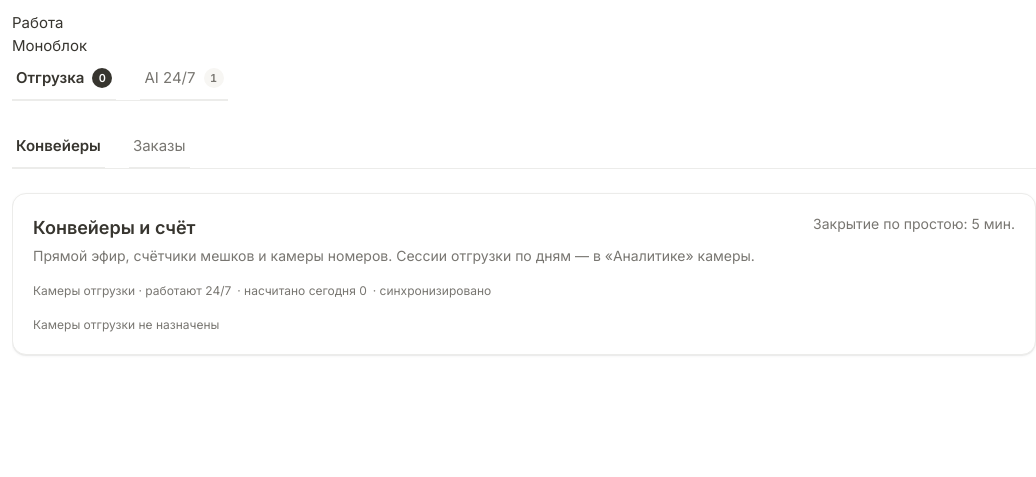
Test: доступ к AI 24/7 на странице моноблока › не выдаёт несинхронизированную аналитику AI 24/7 за честный ноль
Click the tab "AI 24/7 1": (184, 79) [140,57,228,101]
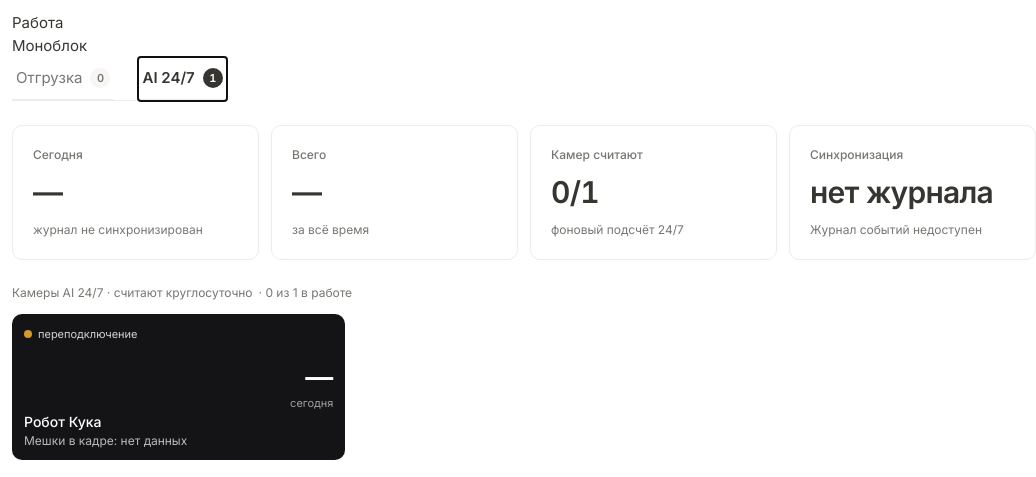
Now the 1st text "—" is shown, box [33,174,62,210]
Now the text "—" below "Всего" is shown, box [292,174,321,210]
